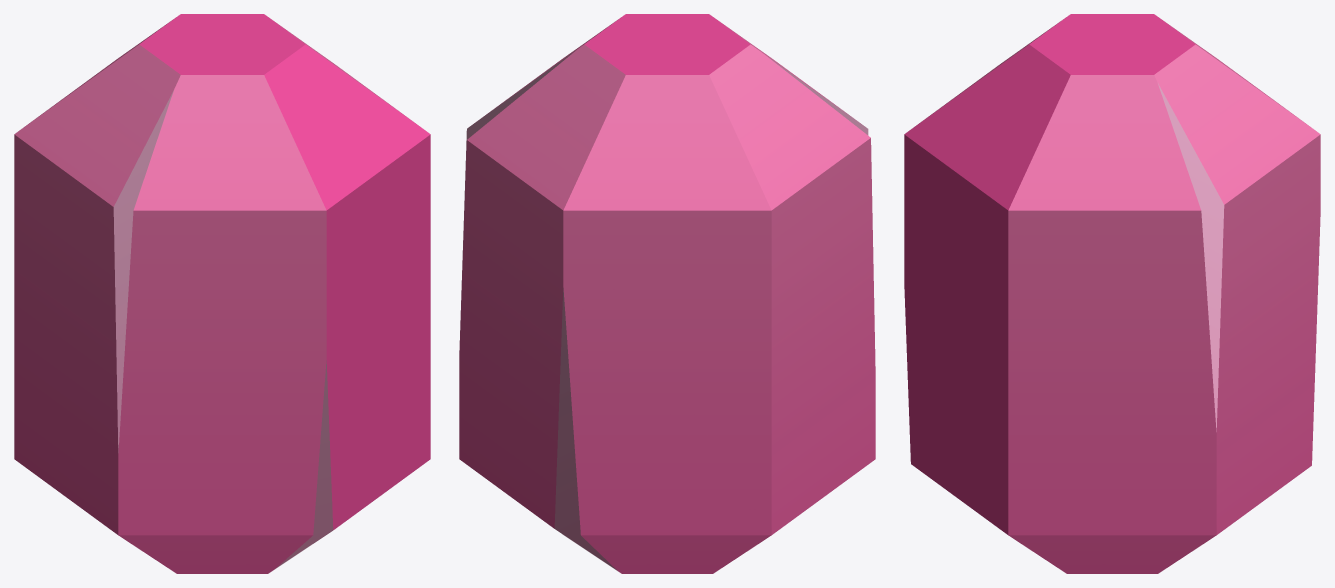
File: Pink_stone_farm.fbx
3 views of the same model, side by side, from view 1: azimuth 30°, elevation 25°; view 2: azimuth 150°, elevation 25°; view 3: azimuth 270°, elevation 25° (orthographic).
Parts seen in each view (by area): view 1: Cylinder.014; view 2: Cylinder.014; view 3: Cylinder.014.
Boxes of the visible parts, x1,y1,x2,y2 form: Cylinder.014: [14, 14, 430, 573]; Cylinder.014: [459, 14, 875, 573]; Cylinder.014: [904, 14, 1320, 573].
Size of the model in its own units: 0.5529 by 0.6384 by 0.8393.
